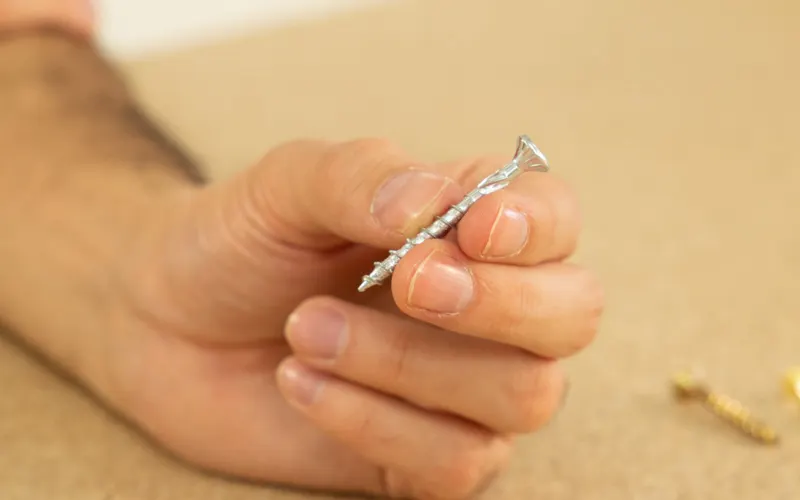tornillo: (276, 168, 412, 292)
